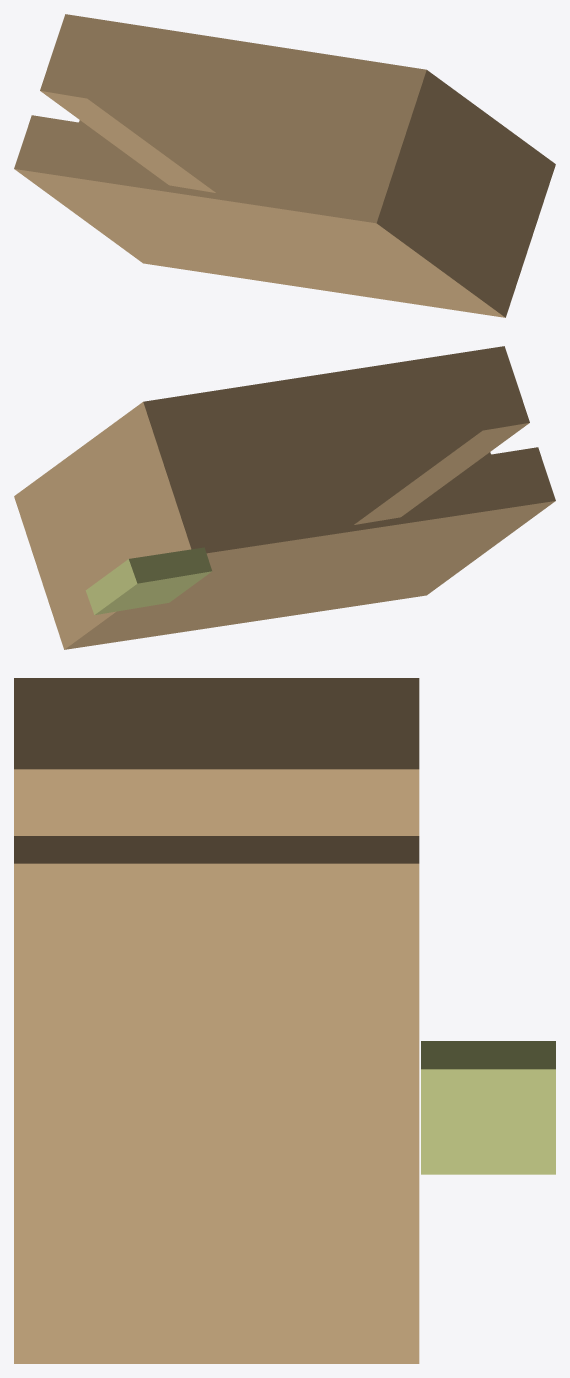
3 renders of one model, top to bottom at view 1: azimuth 30°, elevation 25°; view 2: azimuth 150°, elevation 25°; view 3: azimuth 270°, elevation 25°, orthographic. The views are drawn at different scales.
Visible parts, largest first — view 1: 0_0_1_2_3_0_3_1; view 2: 0_0_1_2_3_0_3_1; view 3: 0_0_1_2_3_0_3_1.
Boxes of the visible parts, x1=… form: 0_0_1_2_3_0_3_1: x1=14, y1=14, x2=555, y2=317; 0_0_1_2_3_0_3_1: x1=14, y1=346, x2=555, y2=649; 0_0_1_2_3_0_3_1: x1=14, y1=678, x2=555, y2=1363.
Bounding box in the file's own units: 49.8 × 32.88 × 36.1.
